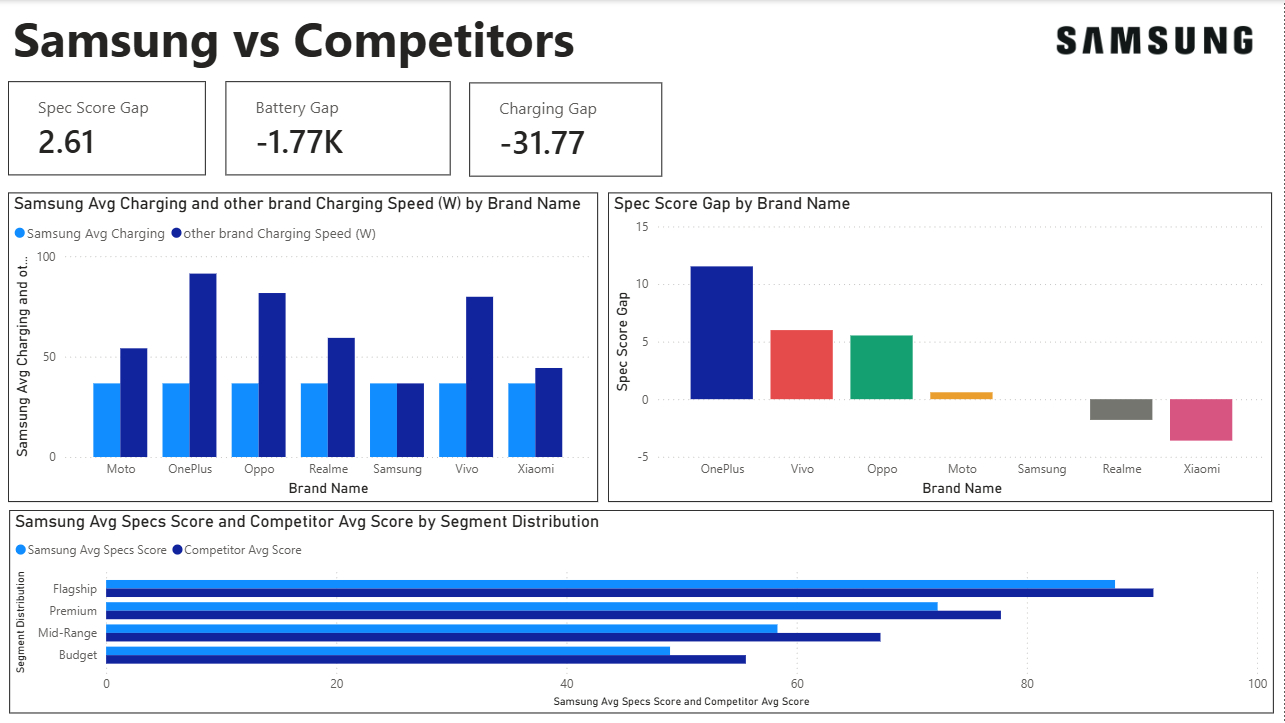

This screenshot's page, from the dashboard's own definition file:
{"tool":"powerbi","page":{"name":"Samsung vs Rivals","canvas":[1280,720],"ordinal":3},"visuals":[{"type":"textbox","box":[10.2,0,672.6,80.6],"z":0},{"type":"image","box":[1035.2,0,232.4,80.3],"z":1000},{"type":"clusteredColumnChart","fields":{"Category":["MobileTable.Brand Name"],"Y":["MobileTable.Spec Score Gap"]},"box":[607.4,191.8,661.1,308.2],"z":2000},{"type":"cardVisual","fields":{"Data":["MobileTable.Spec Score Gap"]},"box":[10.2,80.6,196.9,93.3],"z":3000},{"type":"cardVisual","fields":{"Data":["MobileTable.Battery Gap"]},"box":[226.3,80.6,223.8,93.3],"z":4000},{"type":"clusteredColumnChart","fields":{"Category":["MobileTable.Brand Name"],"Y":["MobileTable.Samsung Avg Charging","Avg(MobileTable.Charging Speed (W))"]},"box":[10.2,191.8,586.9,308.2],"z":5000},{"type":"clusteredBarChart","fields":{"Y":["MobileTable.Samsung Avg Specs Score","MobileTable.Competitor Avg Score"],"Category":["MobileTable.Segment Distribution"]},"box":[10.8,508.1,1258.1,202.7],"z":6000},{"type":"cardVisual","fields":{"Data":["MobileTable.Charging Gap"]},"box":[469.3,81.8,191.8,93.3],"z":7000}]}

Visuals, with their boxes in screenshot pixels (x1, y1, x2, y2), scaled from the page's 1280x720 canvas onto the 1285x723 screenshot:
textbox: detection(10, 0, 685, 81)
image: detection(1039, 0, 1273, 81)
clusteredColumnChart - MobileTable.Brand Name x MobileTable.Spec Score Gap: detection(610, 193, 1273, 502)
cardVisual - MobileTable.Spec Score Gap: detection(10, 81, 208, 175)
cardVisual - MobileTable.Battery Gap: detection(227, 81, 452, 175)
clusteredColumnChart - MobileTable.Brand Name x MobileTable.Samsung Avg Charging: detection(10, 193, 599, 502)
clusteredBarChart - MobileTable.Samsung Avg Specs Score x MobileTable.Competitor Avg Score: detection(11, 510, 1274, 714)
cardVisual - MobileTable.Charging Gap: detection(471, 82, 664, 176)
